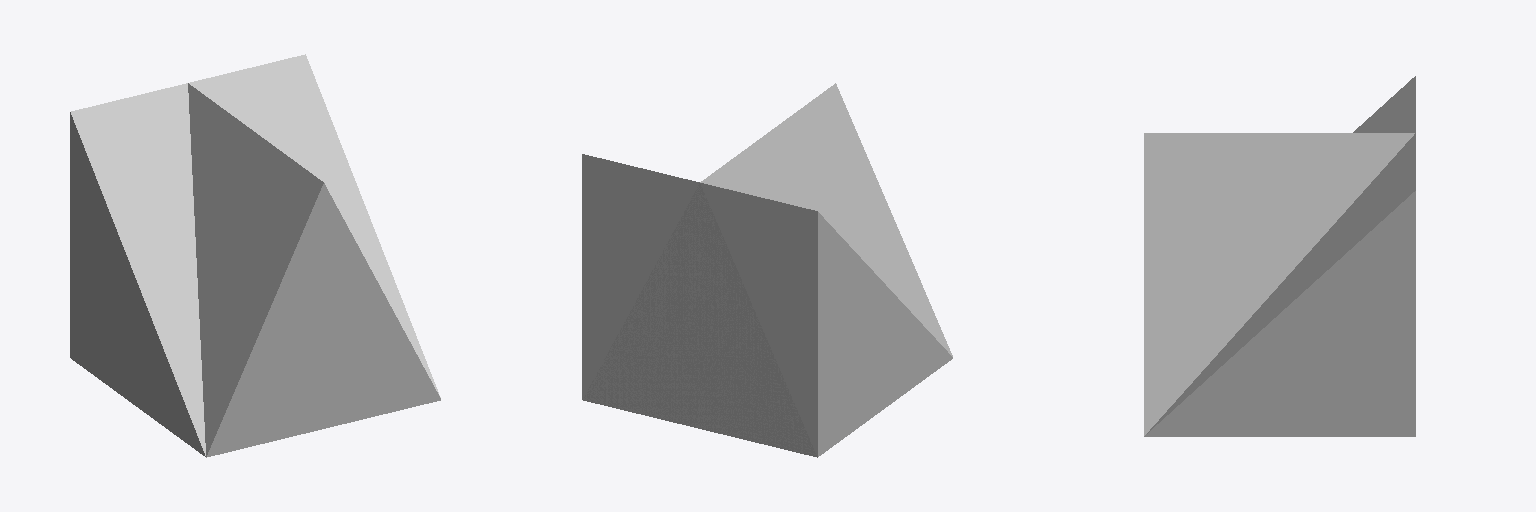
File: polymap_junction.obj
3 views of the same model, side by side, from view 1: azimuth 30°, elevation 25°; view 2: azimuth 150°, elevation 25°; view 3: azimuth 270°, elevation 25° (orthographic).
Visible parts, largest first — view 1: polymap_fold, polymap_slope; view 2: polymap_slope, polymap_fold; view 3: polymap_slope, polymap_fold.
Boxes of the visible parts, <box> form: polymap_fold: <box>188,83,440,457</box>; polymap_slope: <box>70,54,440,456</box>; polymap_slope: <box>582,154,952,456</box>; polymap_fold: <box>584,83,952,457</box>; polymap_slope: <box>1144,76,1415,436</box>; polymap_fold: <box>1144,133,1414,435</box>.
Size of the model in its own units: 1 by 1 by 1.